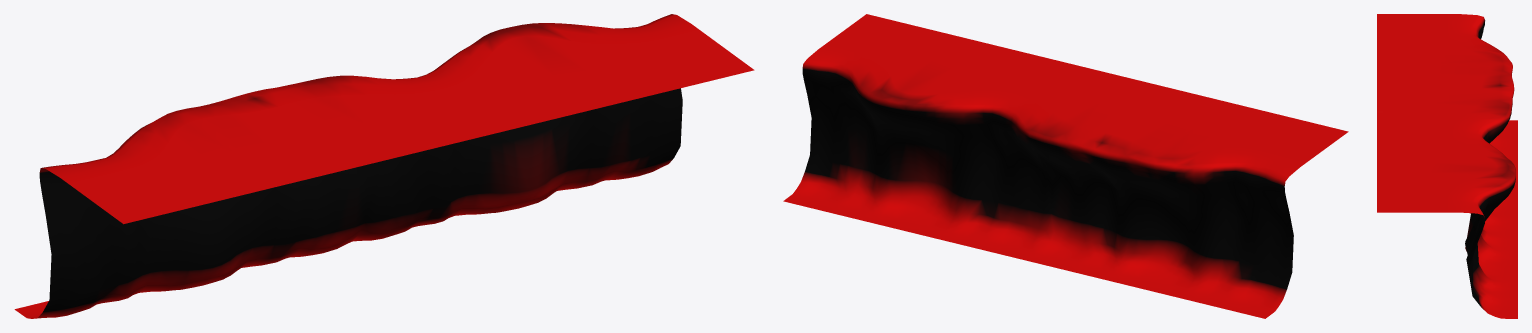
The model's file is GroundCliff02C 1M Foreground.fbx.
3 renders of one model, left to right at view 1: azimuth 30°, elevation 25°; view 2: azimuth 150°, elevation 25°; view 3: azimuth 270°, elevation 25°, orthographic. The views are drawn at different scales.
Visible parts, largest first — view 1: GroundCliff02C 1M Foreground; view 2: GroundCliff02C 1M Foreground; view 3: GroundCliff02C 1M Foreground.
Part boxes in pixels (x1,y1,x2,y2): GroundCliff02C 1M Foreground: [14, 14, 754, 318]; GroundCliff02C 1M Foreground: [783, 14, 1348, 318]; GroundCliff02C 1M Foreground: [1377, 14, 1517, 318].
Bounding box in the file's own units: 4 × 1 × 1.2.
